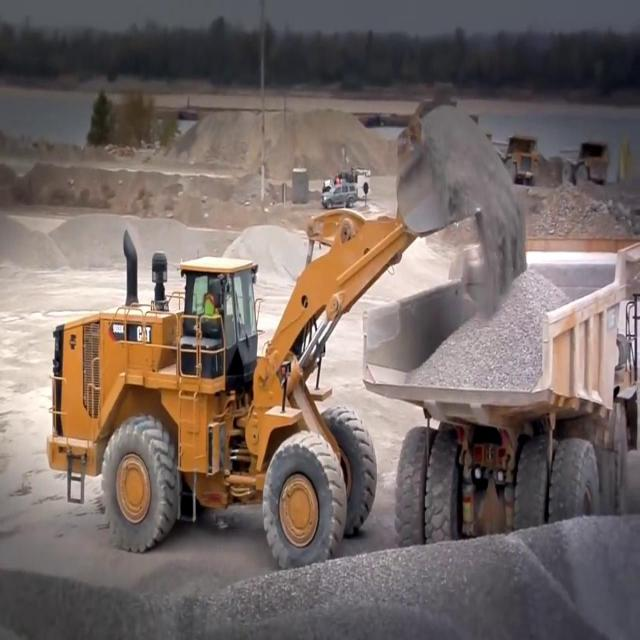Dump Truck: (356, 227, 640, 550)
Loader: (45, 92, 488, 564)
